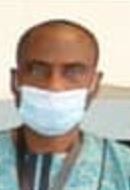with_facemask: (12, 83, 91, 141)
